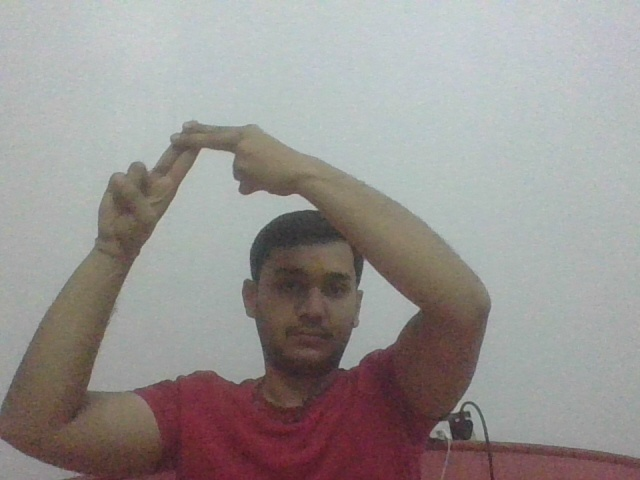F: (94, 112, 299, 238)
